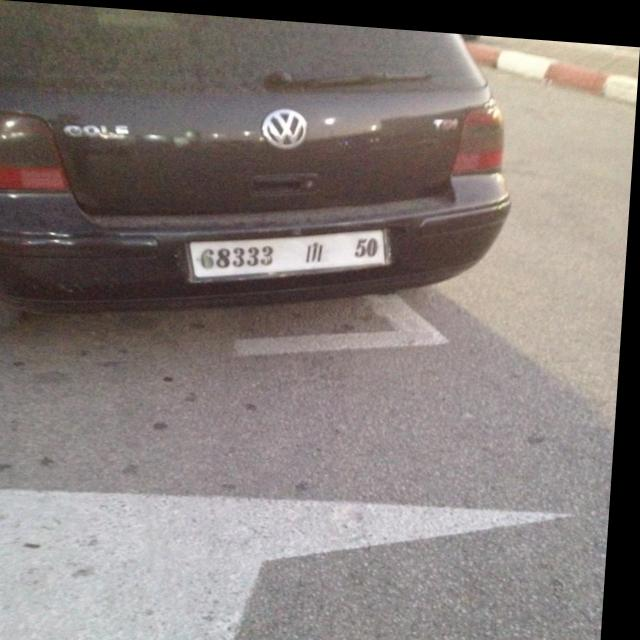License-Plate: (192, 224, 393, 278)
